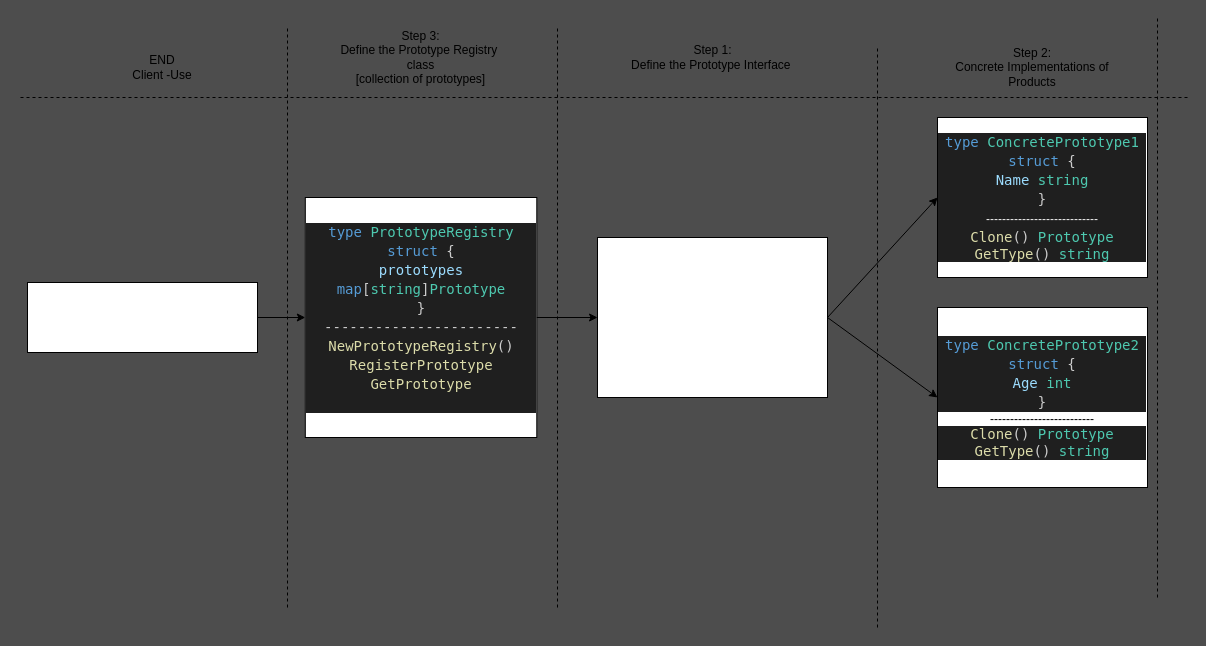
Image size: 1206x646. Some labels were removed from this diagram. Each missing label, with the centre of its shape:
"Client" goes at [142,317].
"type Prototype interface { Clone () Prototype GetType () string }" goes at [712,317].
